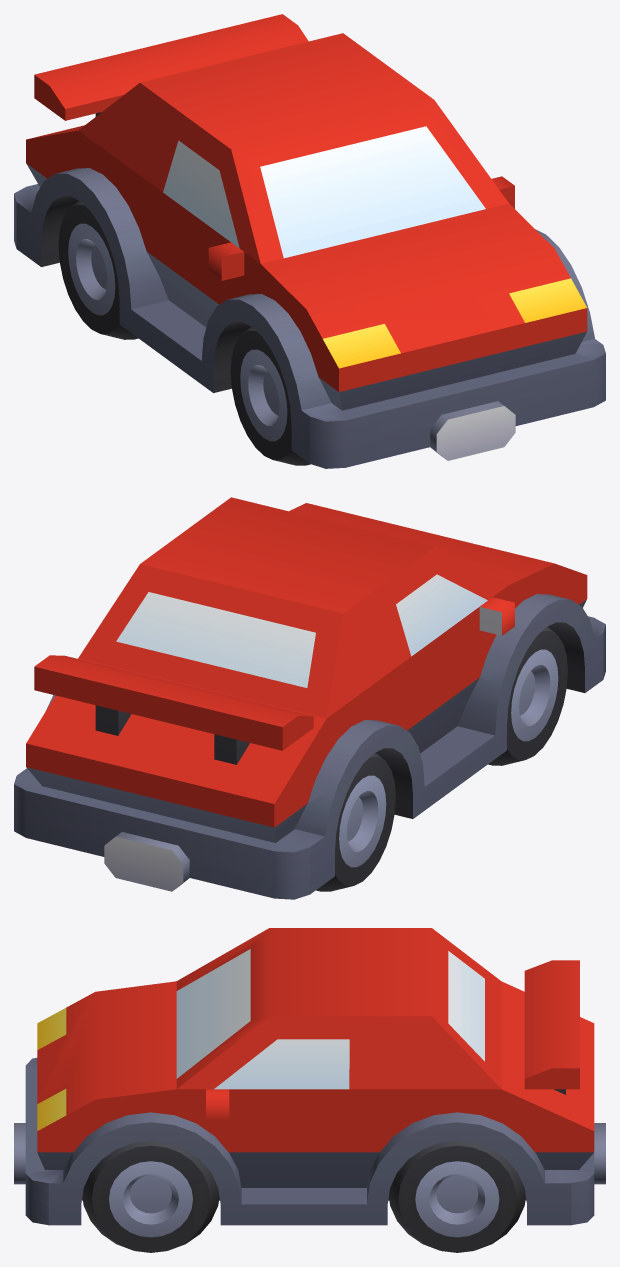
The model's file is sedan-sports1.glb.
The picture shows the model from 3 angles, top to bottom: view 1: azimuth 30°, elevation 25°; view 2: azimuth 150°, elevation 25°; view 3: azimuth 270°, elevation 25°; orthographic projection. The views are drawn at different scales.
Visible parts, largest first — view 1: body.001, body, spoiler, wheel-back-right, wheel-front-right; view 2: body.001, body, spoiler, wheel-back-right, wheel-front-right; view 3: body.001, body, wheel-back-left, wheel-front-left, spoiler.
Part boxes in pixels (box(x1,y1,x2,y2)): body.001: box(26, 33, 587, 391); body: box(14, 126, 605, 468); spoiler: box(34, 14, 308, 120); wheel-back-right: box(58, 200, 138, 339); wheel-front-right: box(230, 326, 310, 465); body.001: box(26, 497, 587, 827); body: box(14, 574, 605, 899); spoiler: box(34, 655, 313, 764); wheel-back-right: box(316, 752, 395, 891); wheel-front-right: box(488, 626, 567, 765); body.001: box(37, 928, 594, 1152); body: box(14, 949, 605, 1225); wheel-back-left: box(389, 1141, 525, 1252); wheel-front-left: box(82, 1141, 219, 1252); spoiler: box(524, 960, 579, 1094).
Bounding box in the file's own units: 1.3 × 1.1 × 2.55.
Materials: 2 (1 with a texture image).
